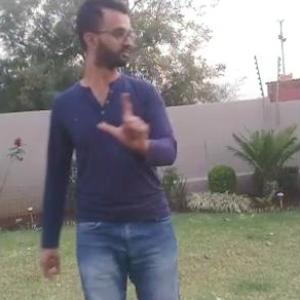land_hand: (97, 87, 153, 156)
